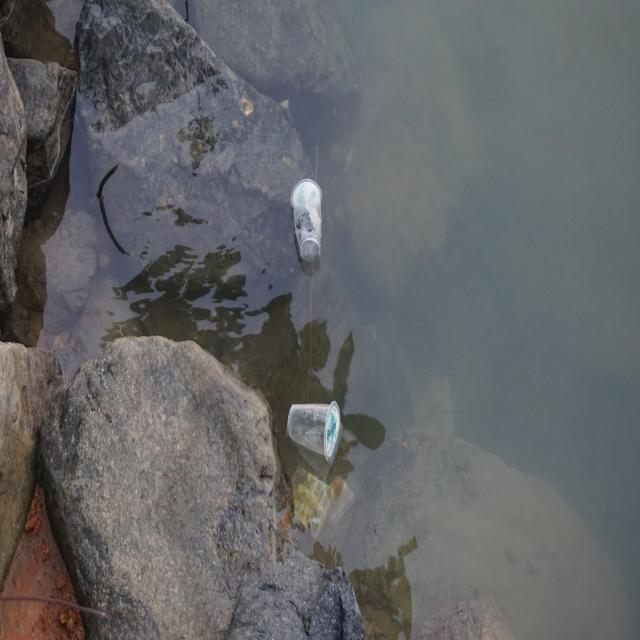Bungkus Minuman: (285, 390, 346, 463), (290, 174, 325, 268)
